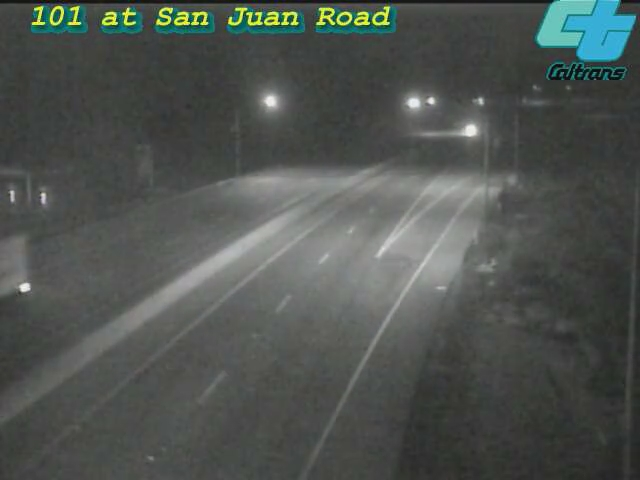vehicle: (1, 228, 50, 308), (442, 105, 492, 155)
